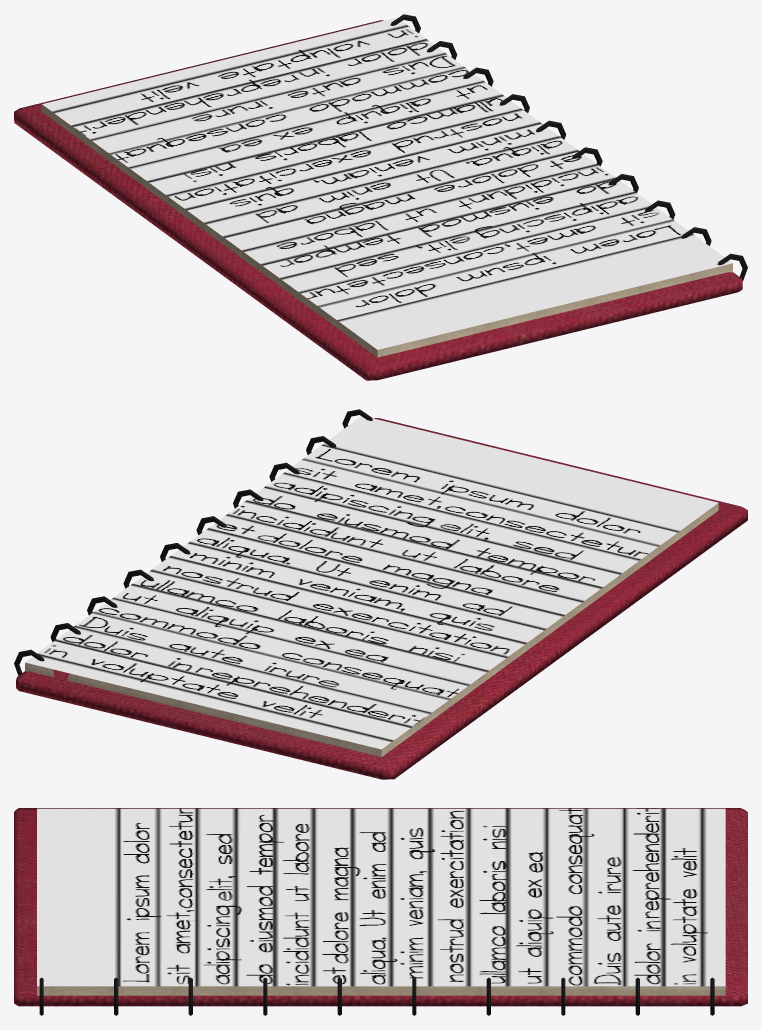
The model's file is notebook.FBX.
The picture shows the model from 3 angles, top to bottom: view 1: azimuth 30°, elevation 25°; view 2: azimuth 150°, elevation 25°; view 3: azimuth 270°, elevation 25°; orthographic projection. The views are drawn at different scales.
Parts seen in each view (by area): view 1: Paper; view 2: Paper; view 3: Paper.
Boxes of the visible parts, x1,y1,x2,y2 form: Paper: (14, 14, 747, 380); Paper: (14, 409, 747, 779); Paper: (14, 808, 747, 1015).
Bounding box in the file's own units: 49.92 × 4.4 × 78.8.
3 materials, 2 textured.
